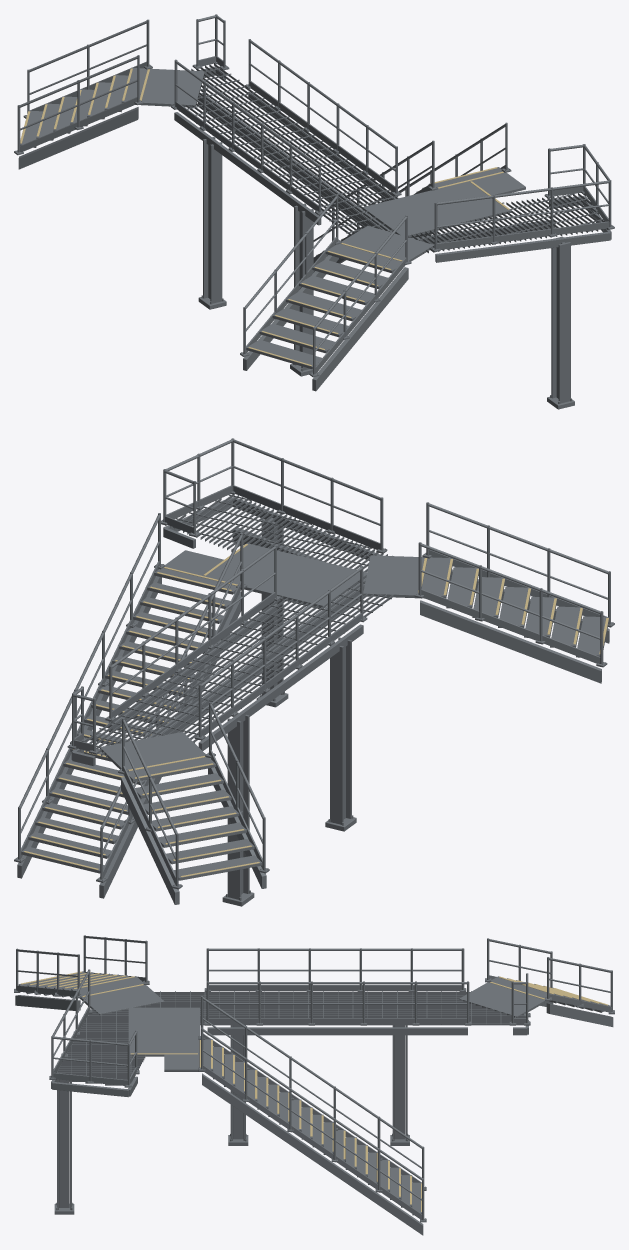
File: BO_W02_OperationsDeck.fbx
3 renders of one model, top to bottom at view 1: azimuth 30°, elevation 25°; view 2: azimuth 150°, elevation 25°; view 3: azimuth 270°, elevation 25°, orthographic. The views are drawn at different scales.
Visible parts, largest first — view 1: BO_W02_OperationsDeck; view 2: BO_W02_OperationsDeck; view 3: BO_W02_OperationsDeck.
Boxes of the visible parts, x1,y1,x2,y2 form: BO_W02_OperationsDeck: (14,14,614,409); BO_W02_OperationsDeck: (14,438,614,906); BO_W02_OperationsDeck: (14,935,614,1235).
Bounding box in the file's own units: 821 × 494 × 1300.
